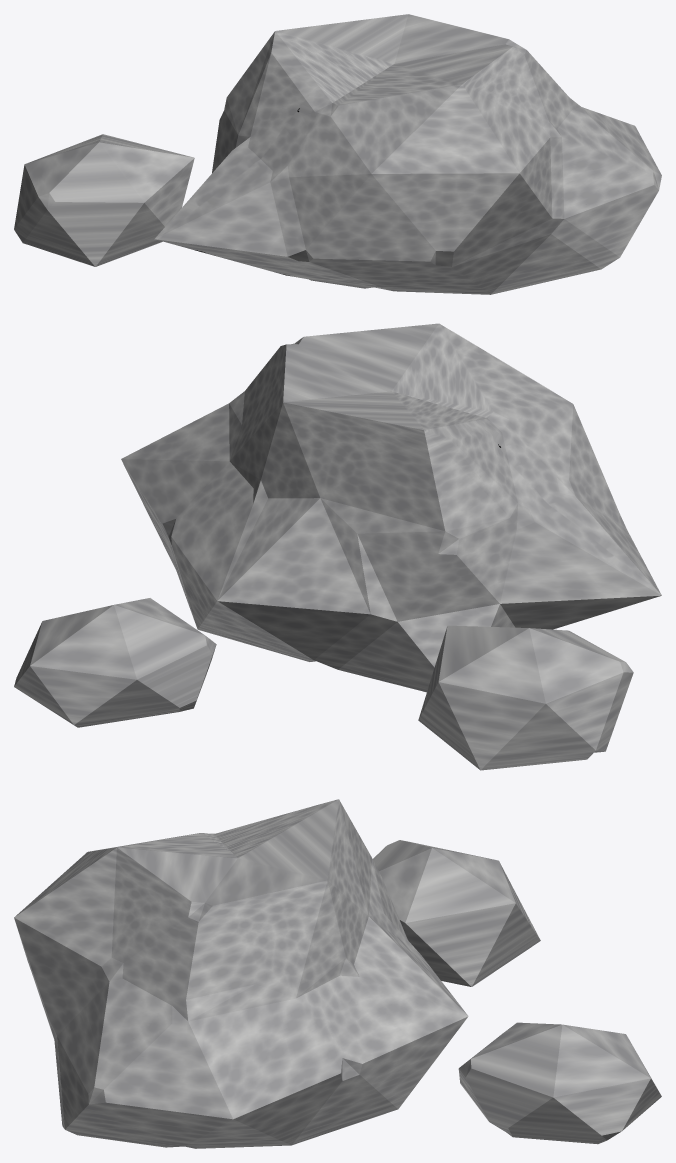
The model's file is 바위무리_02.fbx.
The picture shows the model from 3 angles, top to bottom: view 1: azimuth 30°, elevation 25°; view 2: azimuth 150°, elevation 25°; view 3: azimuth 270°, elevation 25°; orthographic projection. The views are drawn at different scales.
Parts seen in each view (by area): view 1: 바위무리_02; view 2: 바위무리_02; view 3: 바위무리_02.
Part boxes in pixels (left/top/right/bottom): 바위무리_02: left=14, top=14, right=661, bottom=294; 바위무리_02: left=14, top=323, right=661, bottom=770; 바위무리_02: left=14, top=799, right=661, bottom=1148.
Size of the model in its own units: 5037 by 1824 by 4921.
1 material, 1 textured.
